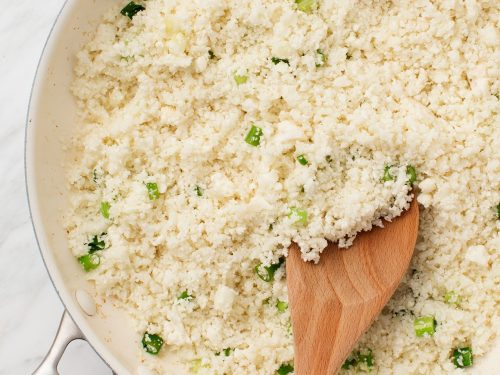rice: (111, 32, 500, 334)
